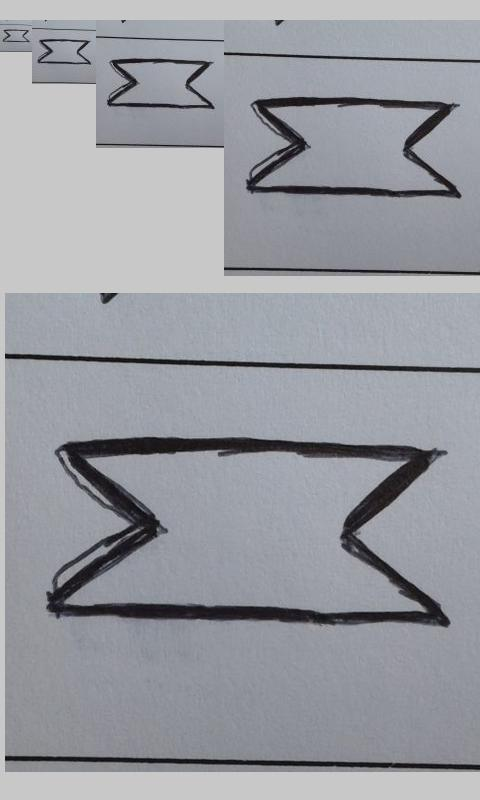edit_text: (48, 436, 446, 628), (247, 97, 461, 199), (107, 58, 214, 109), (37, 39, 91, 65), (2, 29, 30, 43)
